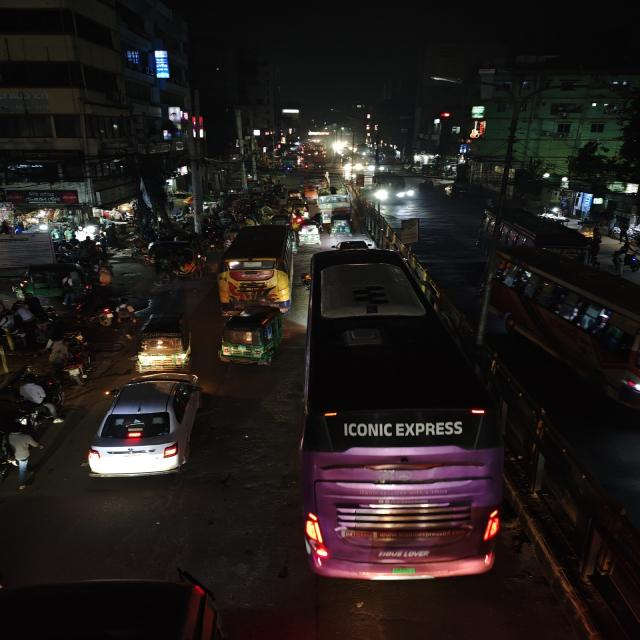bus: (298, 243, 505, 583), (480, 248, 630, 415), (216, 224, 299, 311), (480, 211, 577, 266), (316, 188, 351, 212), (375, 177, 406, 204)
car: (84, 370, 210, 482), (326, 237, 375, 251)
cng: (216, 308, 284, 368), (135, 312, 193, 370), (17, 262, 88, 300), (328, 208, 356, 238), (298, 220, 322, 248), (288, 199, 308, 218), (269, 213, 290, 226), (286, 187, 304, 199)
motorcycle: (13, 377, 54, 429), (58, 343, 96, 384), (113, 302, 139, 338)
pedestrian: (1, 428, 45, 486), (93, 263, 118, 289)
rickshaw: (146, 241, 206, 284)
